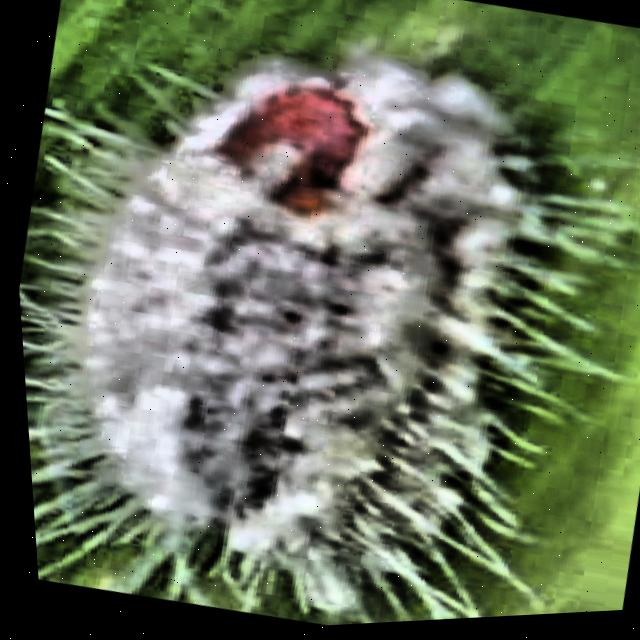Mealy-bug: (0, 0, 630, 640)
